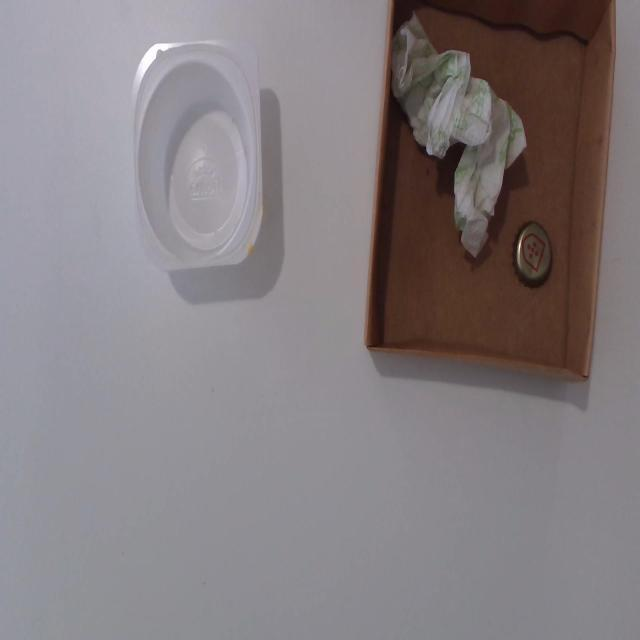Paper: (391, 24, 531, 256)
Plastic: (132, 43, 265, 276)
